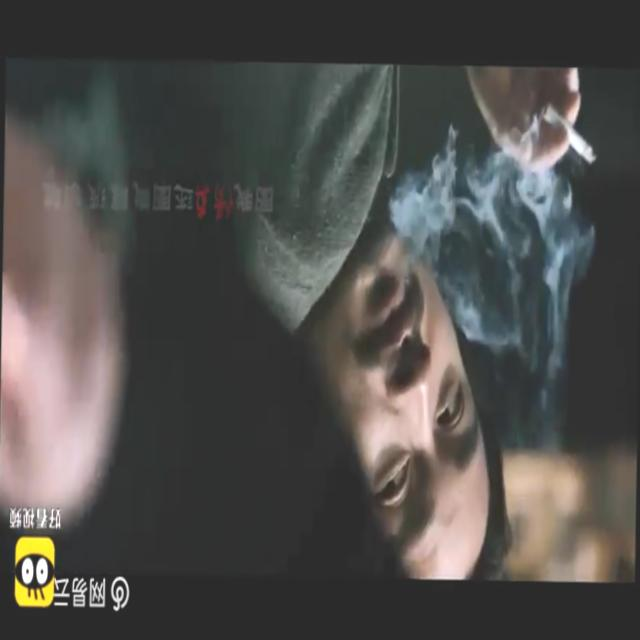cigarette: (537, 102, 597, 166)
